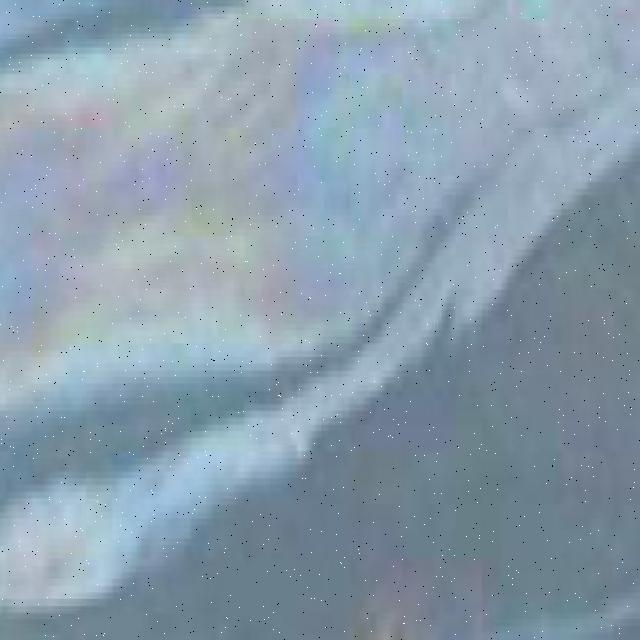oil: (0, 0, 640, 430), (5, 444, 299, 628)
